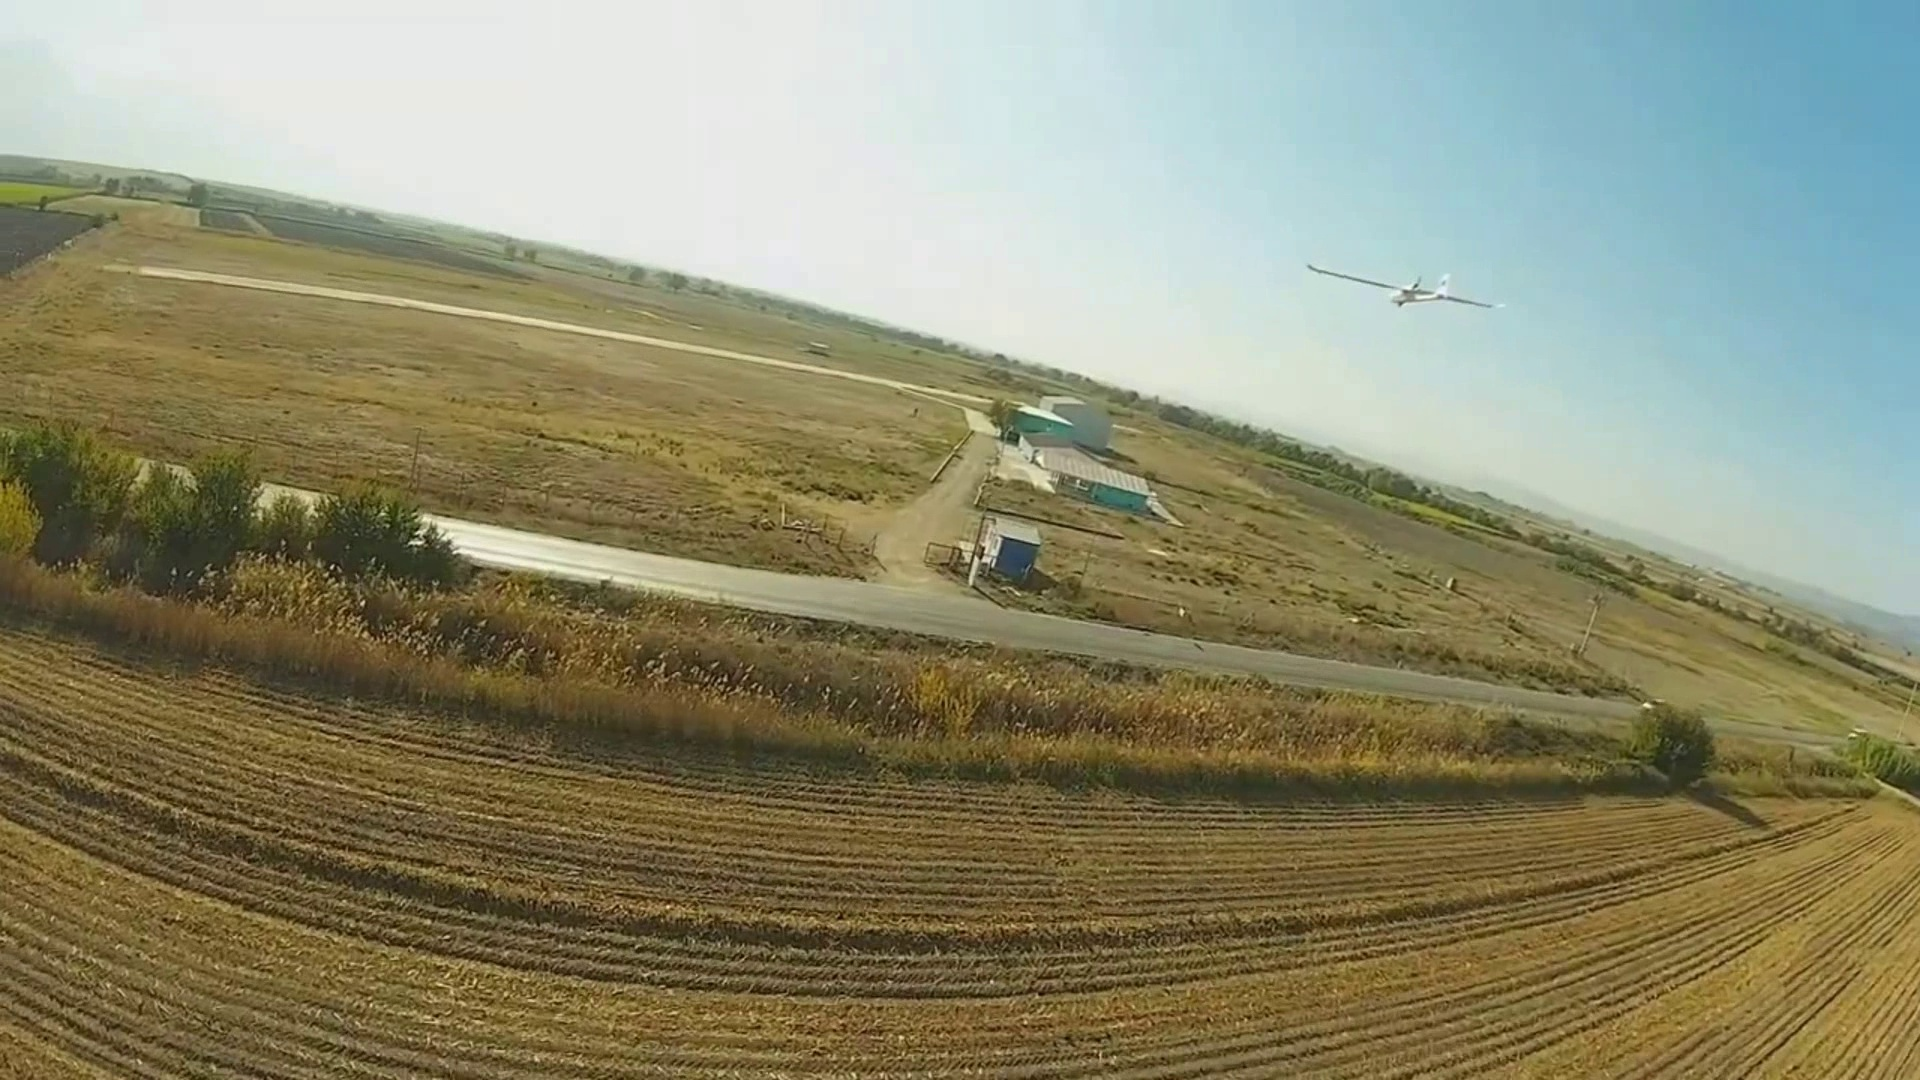airplane: (1305, 260, 1501, 313)
